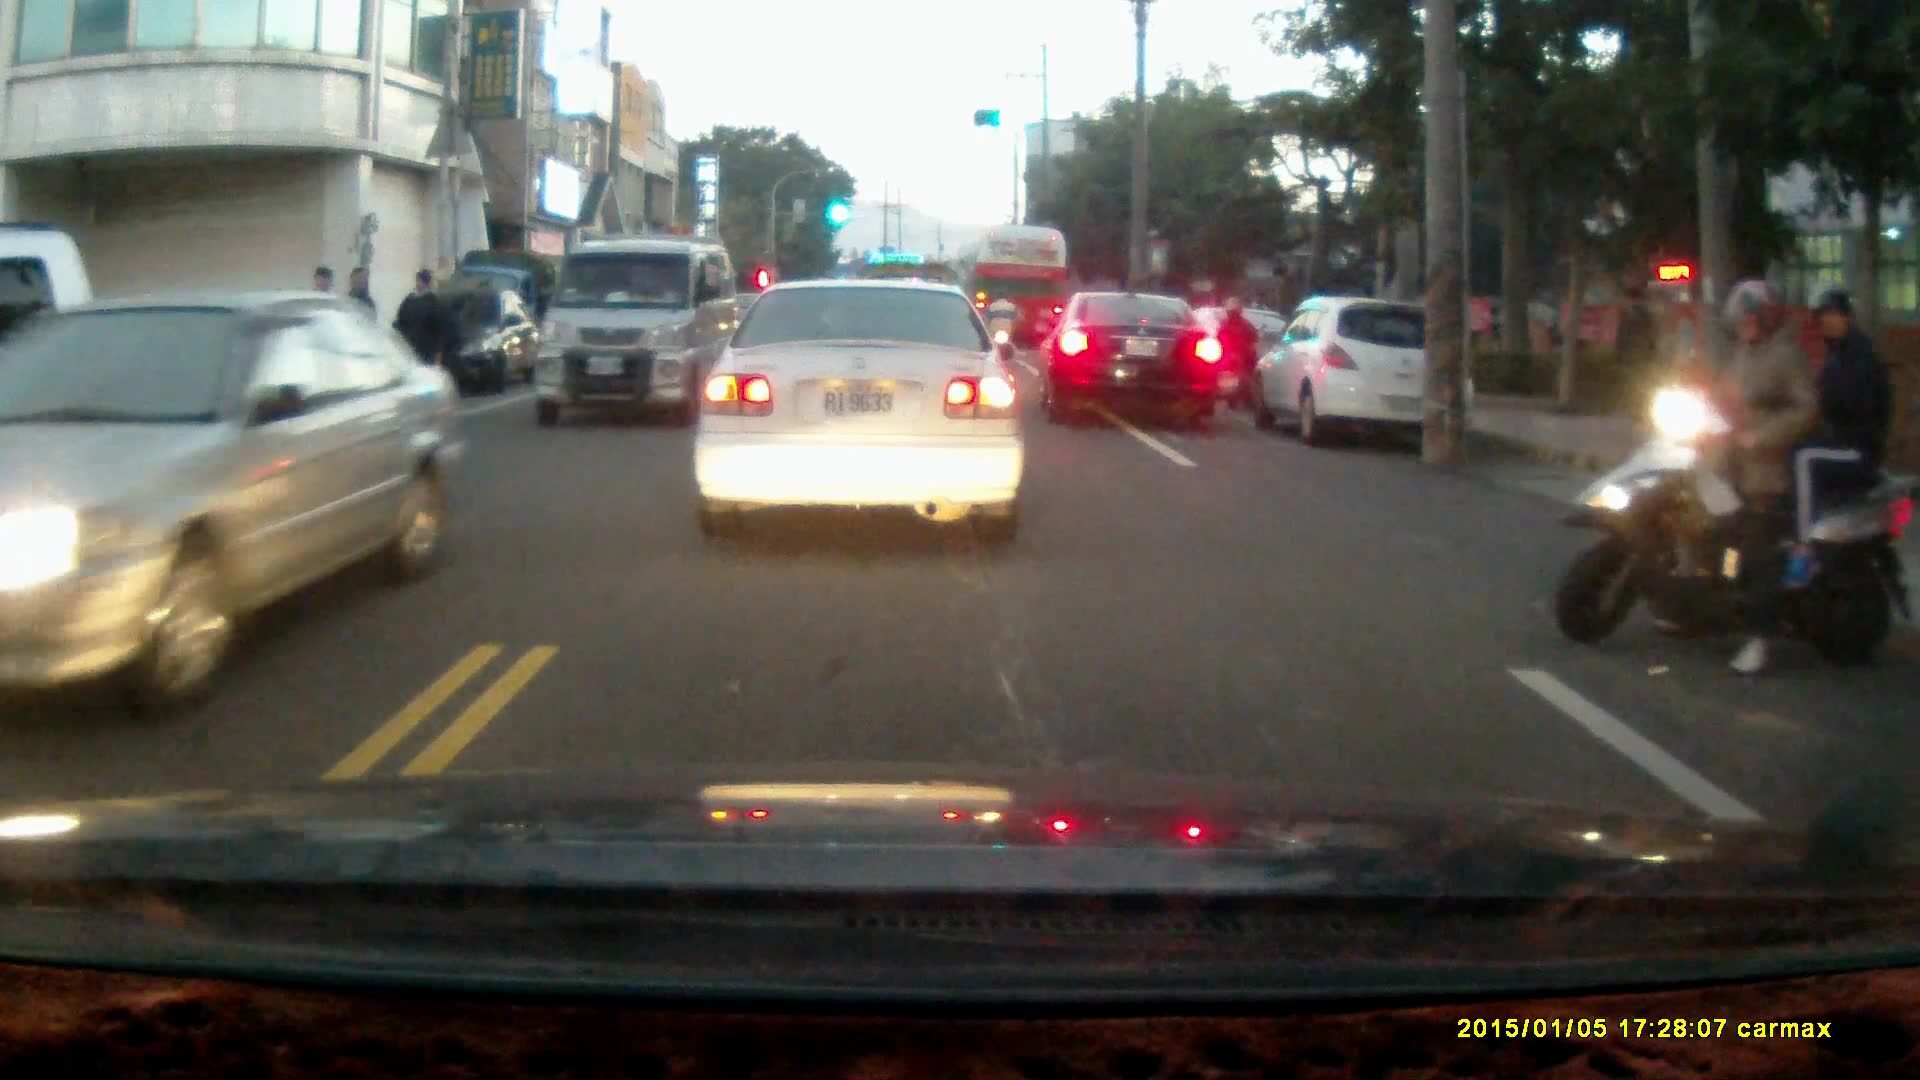pedestrian: (322, 263, 378, 450), (390, 267, 447, 416), (1613, 285, 1666, 418)
rider: (1554, 281, 1909, 681), (1213, 295, 1264, 413), (982, 290, 1021, 370)
vehicle: (1, 291, 491, 741), (690, 277, 1030, 549), (7, 303, 251, 480), (531, 237, 744, 430), (1248, 296, 1478, 449), (1, 223, 115, 507), (1040, 296, 1230, 435), (380, 282, 545, 397), (972, 224, 1072, 367)
